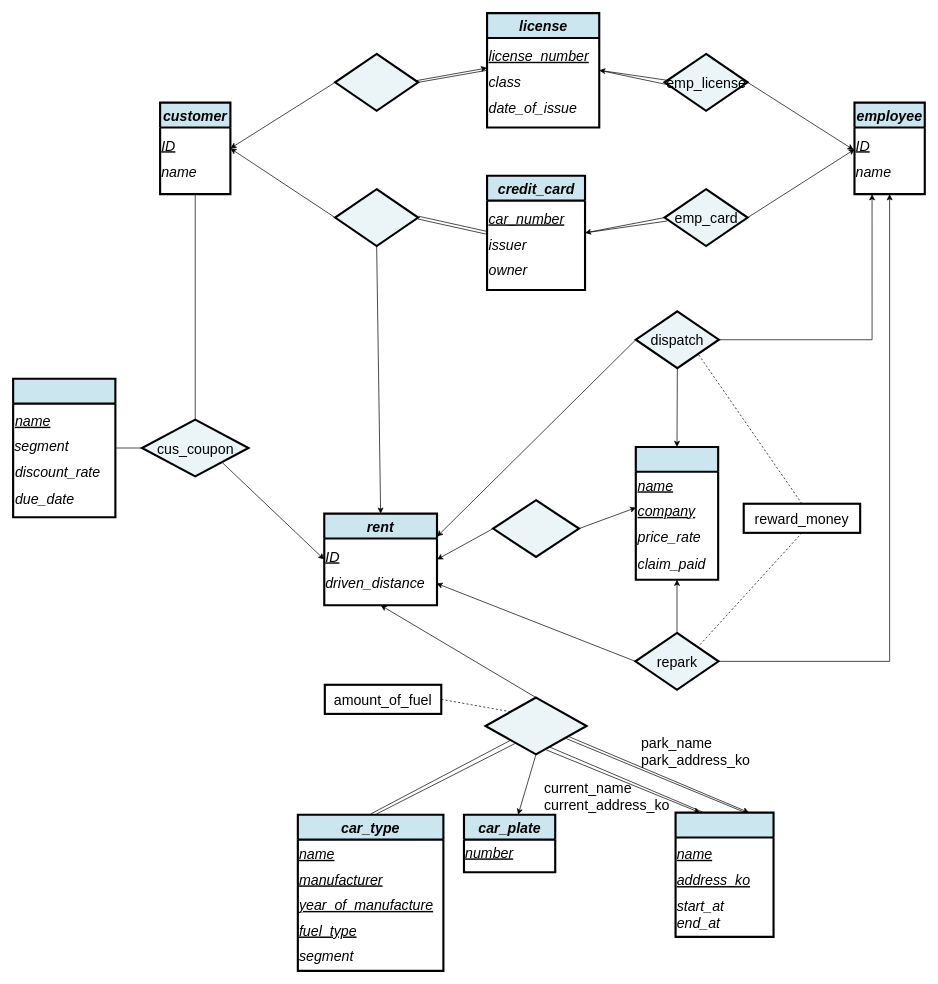
This 938x984 diagram has some shape labels left out. Each missing label, with the box of its shape:
car: (484, 696, 587, 755)
coupon: (12, 377, 116, 518)
cus_card: (334, 188, 419, 247)
cus_license: (334, 53, 419, 111)
insurance: (634, 446, 719, 580)
parking_lot: (674, 811, 774, 938)
rent_insu: (492, 499, 580, 558)
